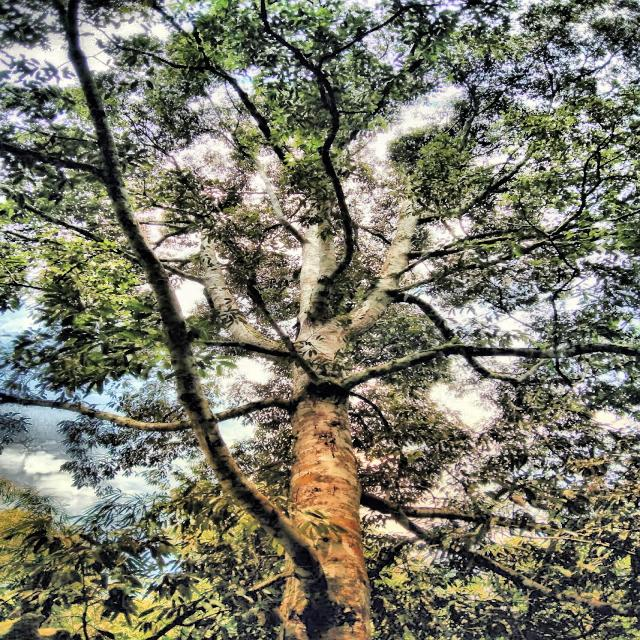arvore: (252, 256, 411, 640)
